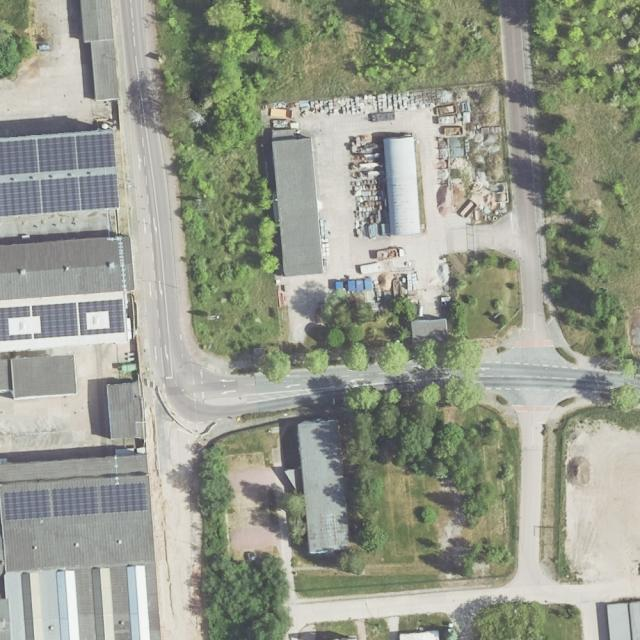PV: (4, 483, 149, 521), (0, 172, 119, 215), (0, 132, 115, 174), (0, 301, 79, 341), (78, 298, 124, 335), (86, 302, 109, 329)
